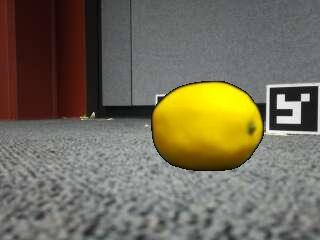lemon: (152, 80, 263, 168)
